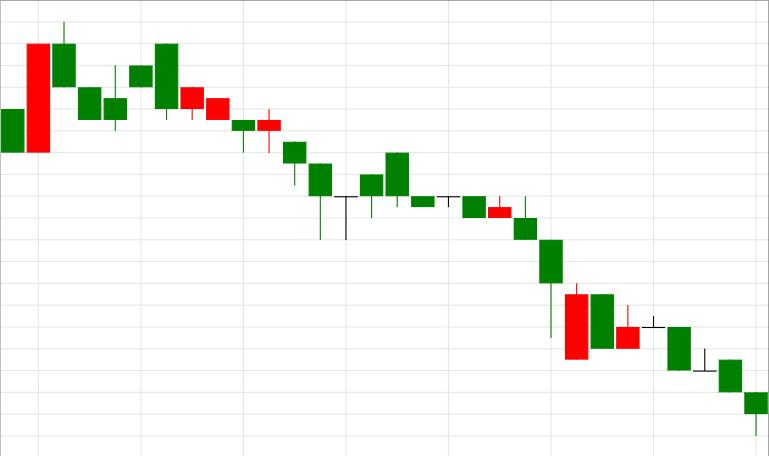hammer_rise: (386, 152, 562, 338), (181, 87, 332, 240)
